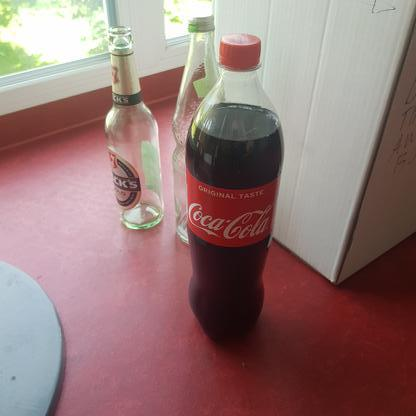coca-cola: (183, 33, 286, 347)
